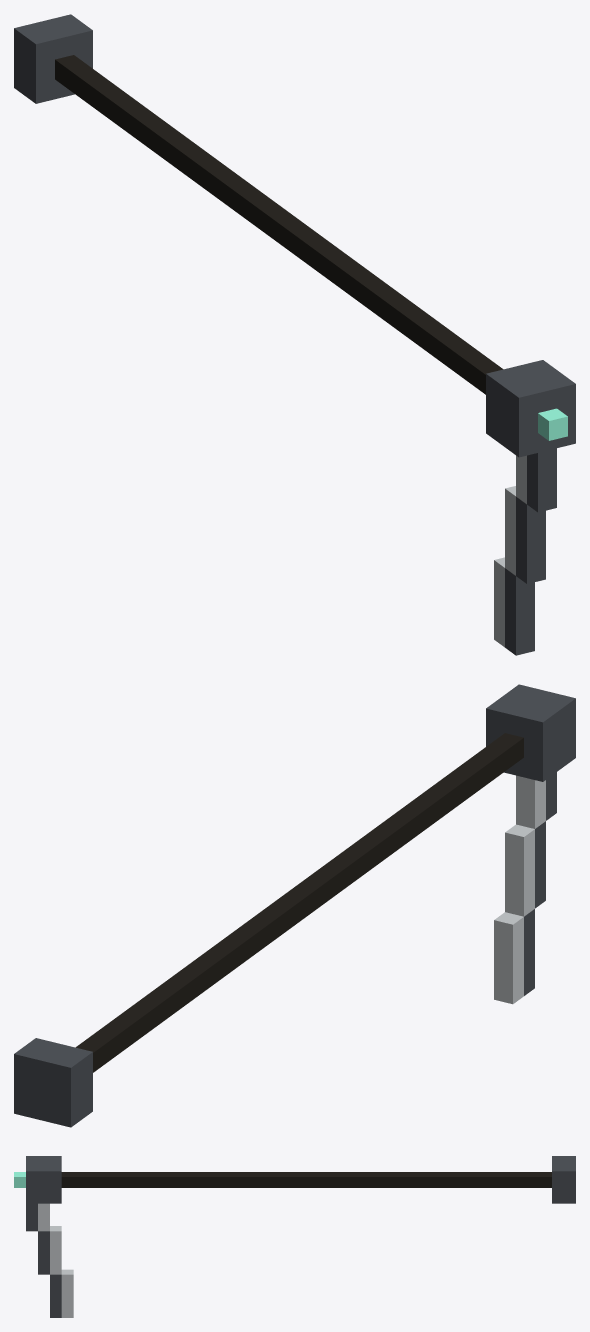
File: vox_scythe.glb
3 views of the same model, one above another, from view 1: azimuth 30°, elevation 25°; view 2: azimuth 150°, elevation 25°; view 3: azimuth 270°, elevation 25° (orthographic). The views are drawn at different scales.
Visible parts, largest first — view 1: vox_scythe; view 2: vox_scythe; view 3: vox_scythe.
Part boxes in pixels (x1,y1,x2,y2): vox_scythe: (14, 14, 575, 655); vox_scythe: (14, 684, 575, 1127); vox_scythe: (14, 1156, 575, 1317).
Bounding box in the file's own units: 0.06 × 0.28 × 0.94.
